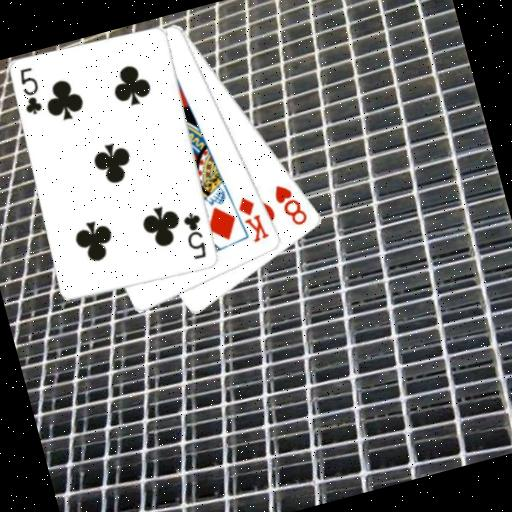5C: (12, 63, 47, 118), (178, 208, 212, 262)
8H: (269, 176, 311, 232)
KD: (232, 190, 272, 247)
